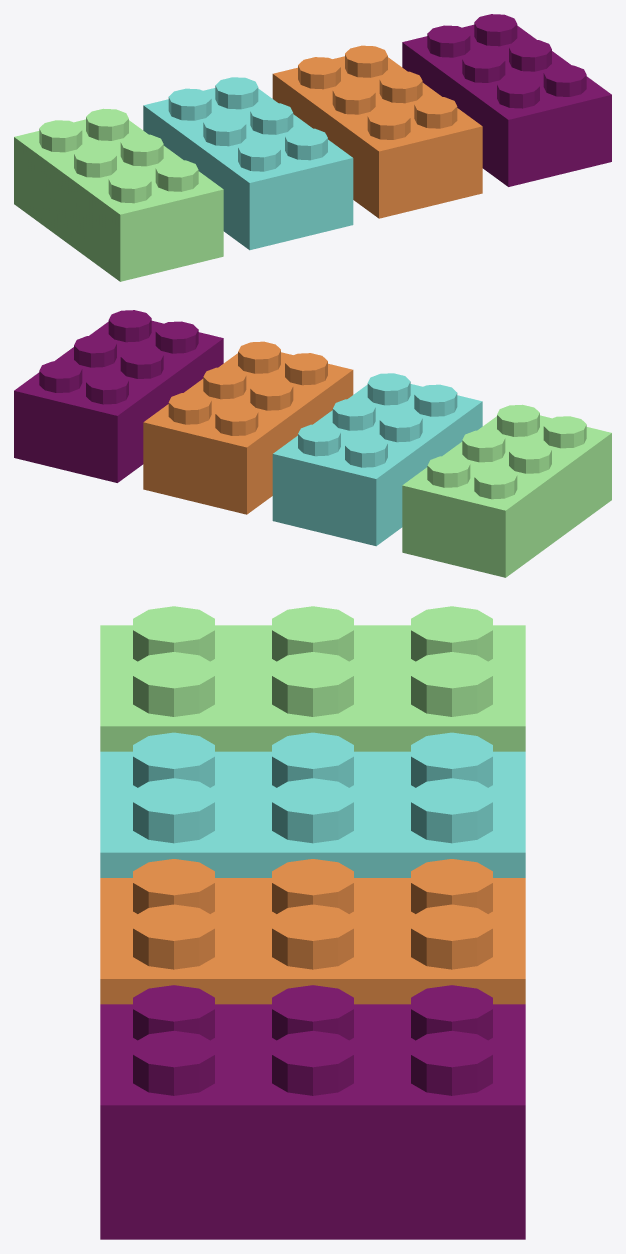
File: legos.fbx
The picture shows the model from 3 angles, top to bottom: view 1: azimuth 30°, elevation 25°; view 2: azimuth 150°, elevation 25°; view 3: azimuth 270°, elevation 25°; orthographic projection. The views are drawn at different scales.
Visible parts, largest first — view 1: pCylinder50, pCylinder47, pCylinder48, pCylinder49; view 2: pCylinder50, pCylinder47, pCylinder48, pCylinder49; view 3: pCylinder49, pCylinder47, pCylinder48, pCylinder50.
Boxes of the visible parts, x1=… form: pCylinder50: x1=14, y1=108, x2=223, y2=281; pCylinder47: x1=143, y1=77, x2=353, y2=250; pCylinder48: x1=272, y1=45, x2=482, y2=218; pCylinder49: x1=402, y1=14, x2=611, y2=186; pCylinder50: x1=402, y1=404, x2=611, y2=577; pCylinder47: x1=272, y1=373, x2=482, y2=546; pCylinder48: x1=143, y1=341, x2=353, y2=514; pCylinder49: x1=14, y1=310, x2=223, y2=482; pCylinder49: x1=100, y1=985, x2=525, y2=1239; pCylinder47: x1=100, y1=732, x2=525, y2=877; pCylinder48: x1=100, y1=859, x2=525, y2=1004; pCylinder50: x1=100, y1=606, x2=525, y2=751.
Bounding box in the file's own units: 19 × 3.01 × 7.11.
